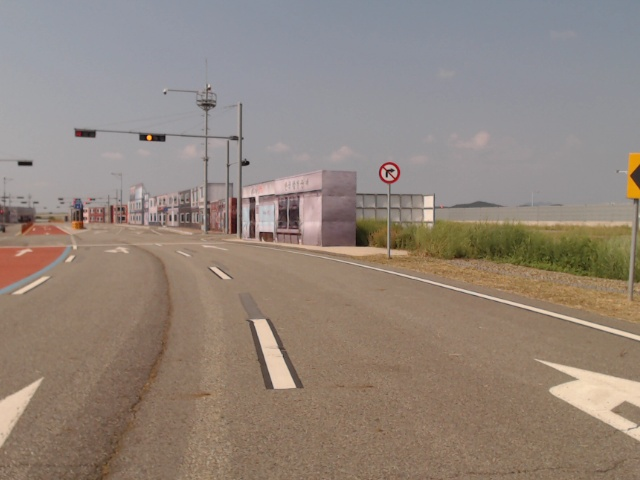orange_4: (138, 131, 166, 144)
